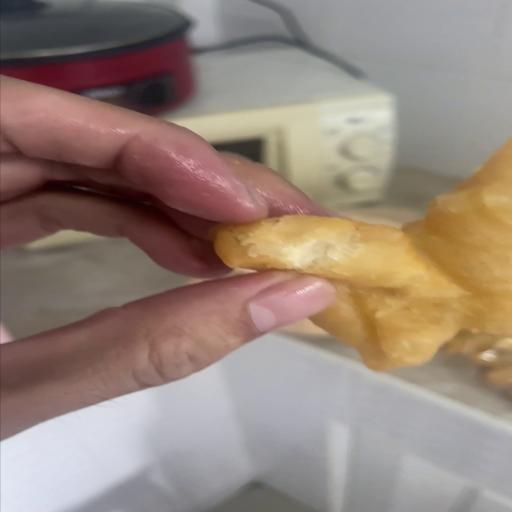street_golden_good: (0, 75, 512, 441)
